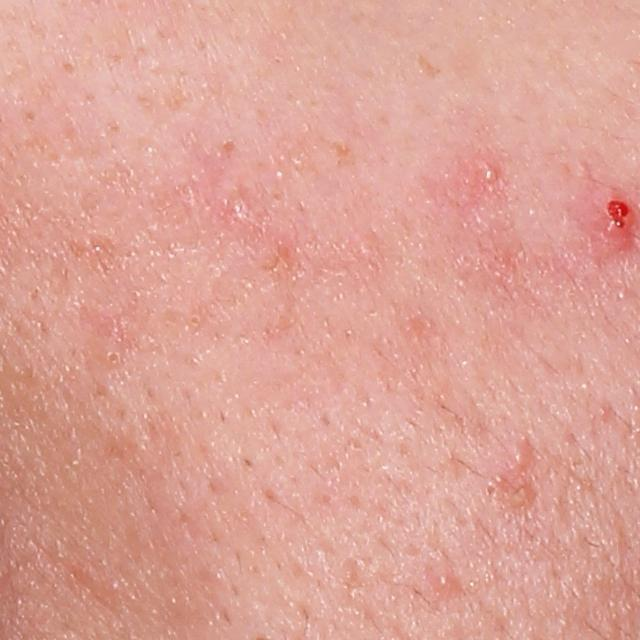comedo: (430, 565, 458, 599), (99, 345, 126, 371), (187, 312, 205, 330)
melasma: (415, 48, 446, 81)
pustule: (471, 160, 498, 191)
